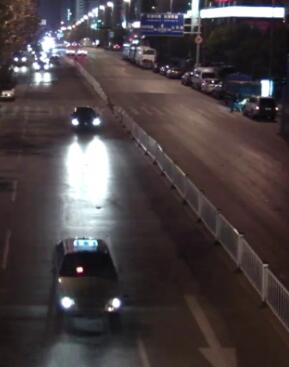bus: (128, 42, 157, 70), (120, 42, 134, 60)
car: (52, 237, 124, 320), (223, 71, 261, 103), (239, 95, 279, 120), (68, 105, 101, 132), (191, 66, 217, 89), (200, 76, 222, 95), (10, 49, 30, 67), (33, 58, 54, 72), (0, 85, 15, 101), (165, 65, 181, 79), (180, 69, 191, 84), (76, 46, 88, 56), (159, 63, 169, 75), (66, 46, 75, 55)
